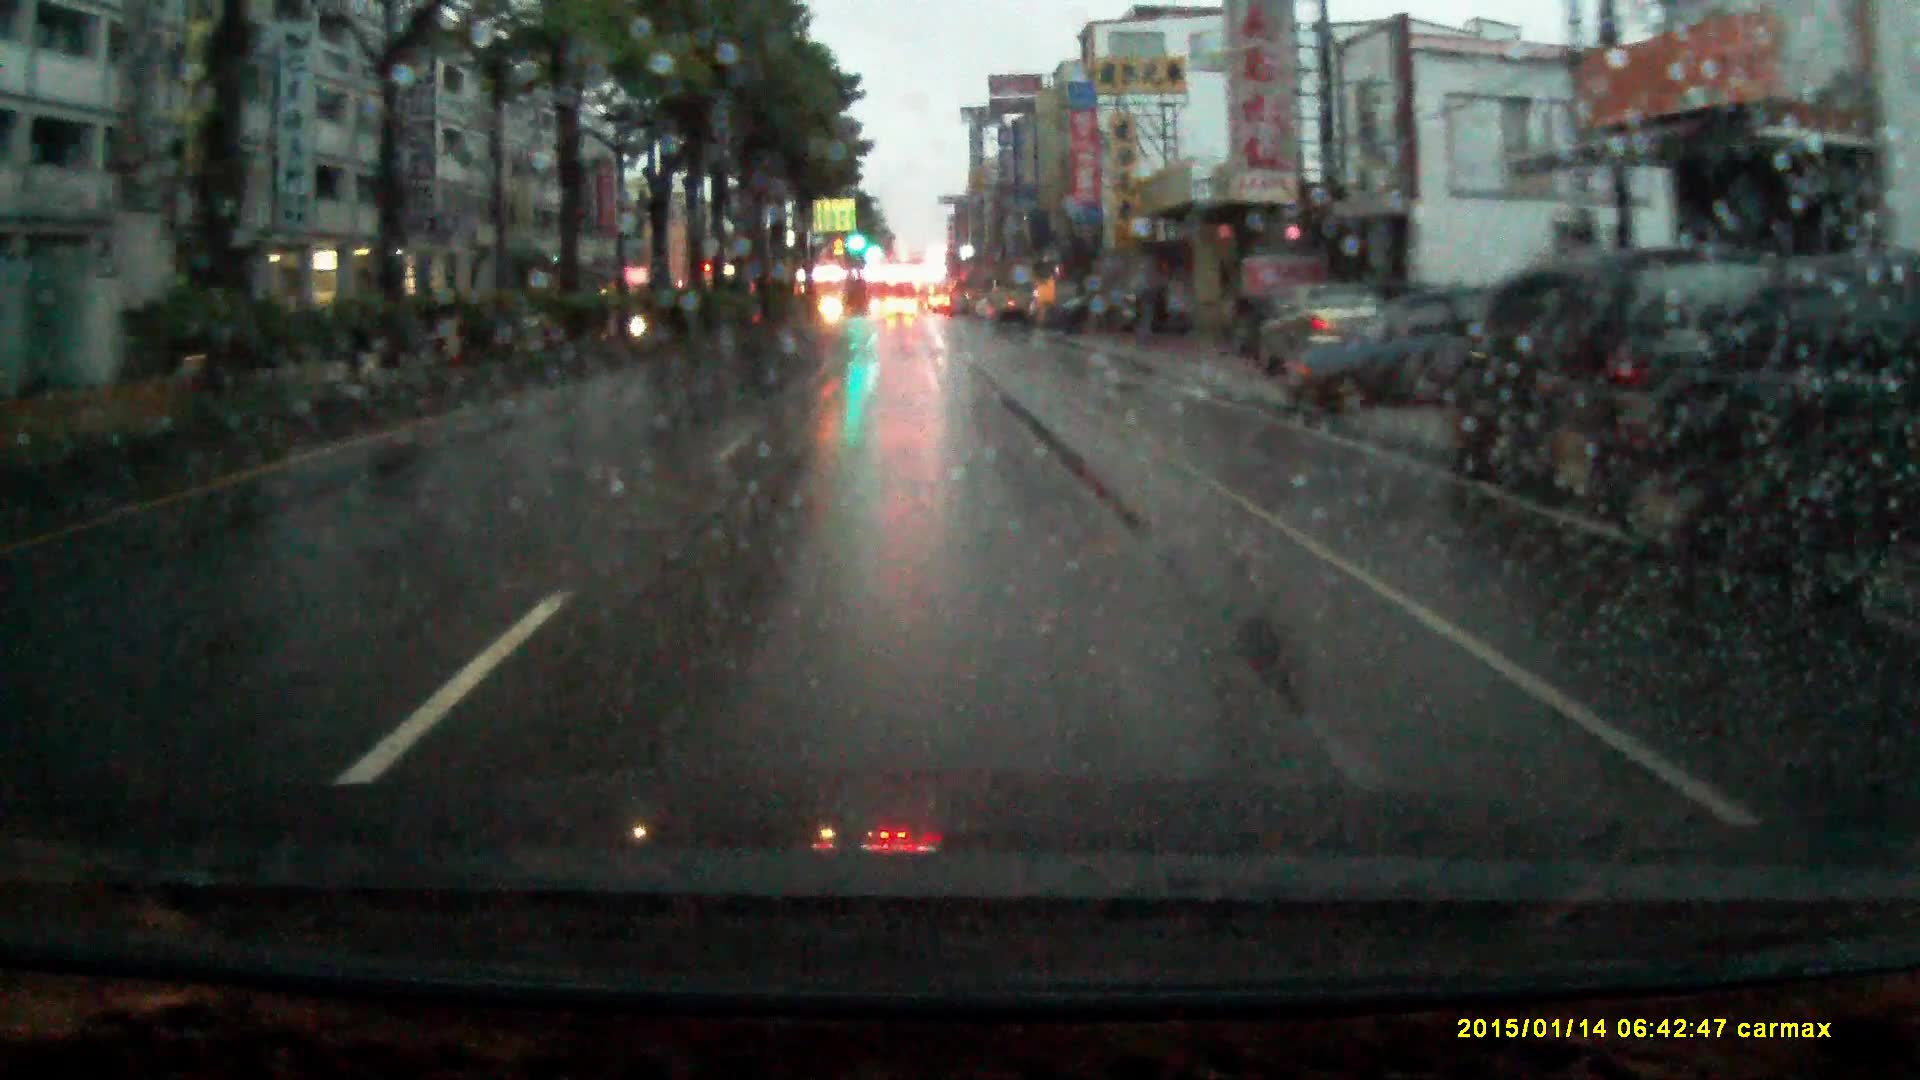vehicle: (1433, 247, 1834, 524), (1669, 256, 1920, 626), (1278, 285, 1580, 415), (1254, 282, 1389, 386), (989, 286, 1034, 330), (886, 297, 918, 320)
